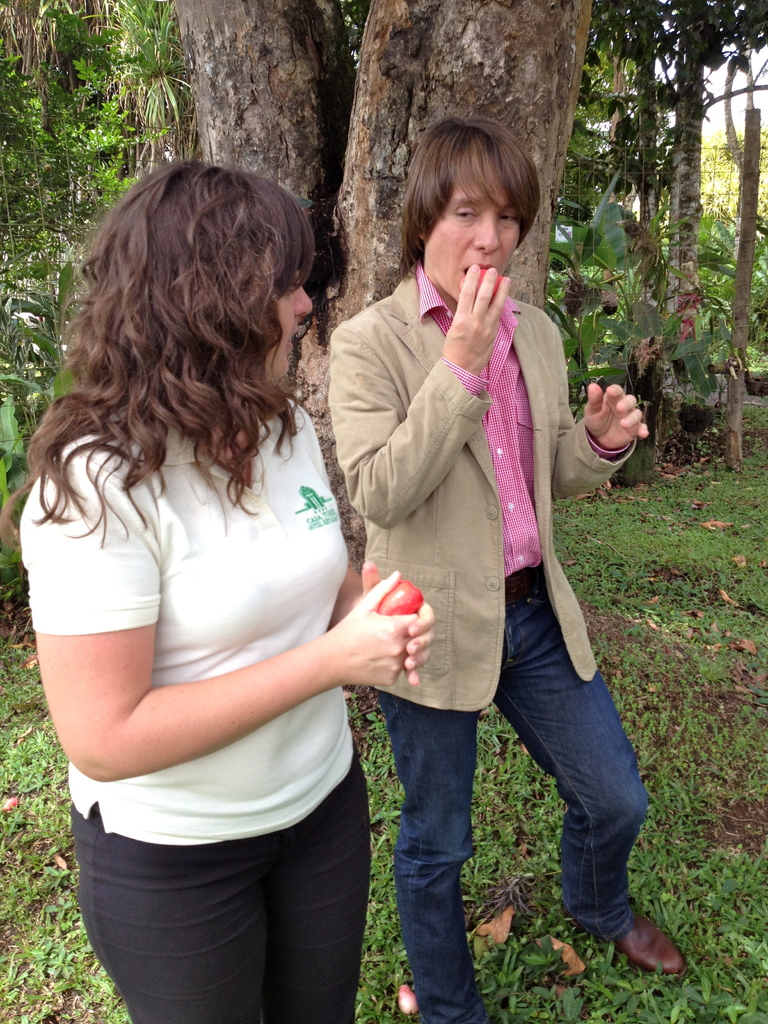Tree: (0, 0, 638, 716), (543, 0, 743, 474)
